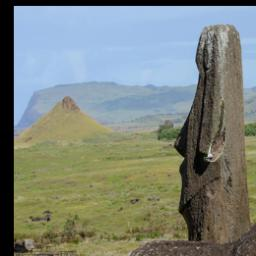Cuckoo: (204, 99, 225, 163)
